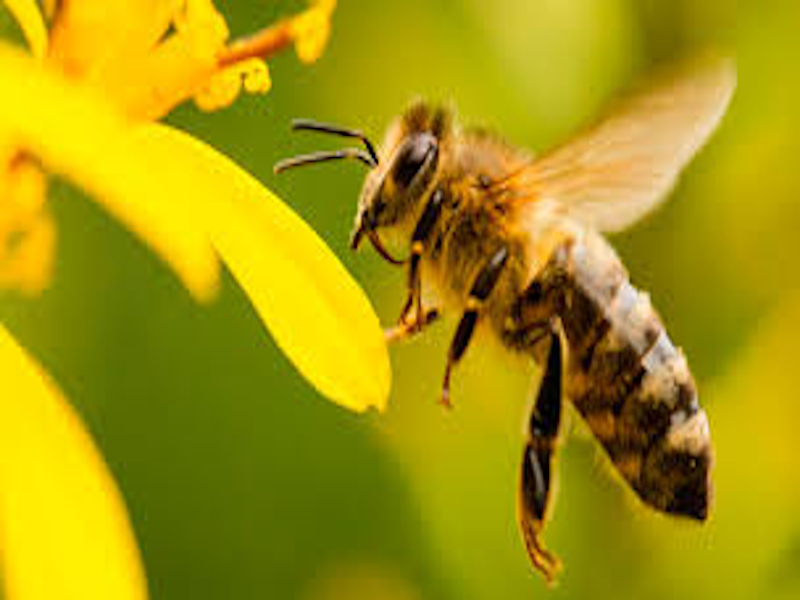abeja: (271, 14, 793, 586)
